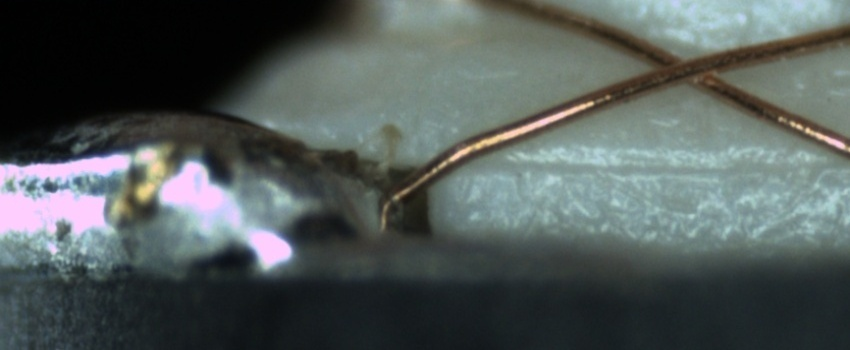CL: (646, 42, 740, 96)
DL: (464, 133, 849, 195)
